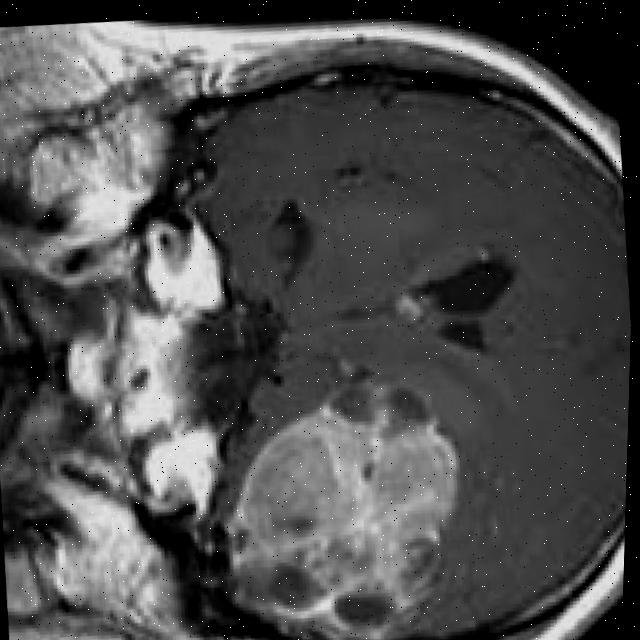Meningioma: (218, 372, 476, 640)
